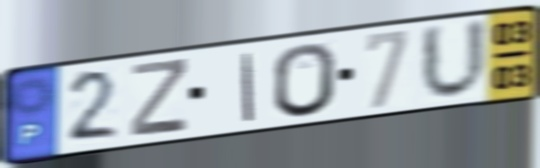2: (64, 67, 123, 150)
7: (362, 28, 416, 111)
I: (240, 50, 256, 124)
O: (271, 41, 339, 121)
U: (419, 15, 491, 103)
Z: (127, 55, 191, 138)
